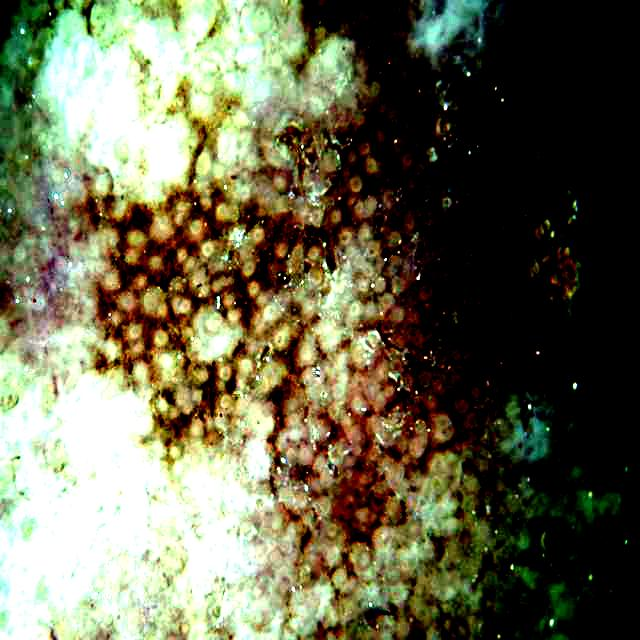AKIEC: (107, 36, 591, 540)
